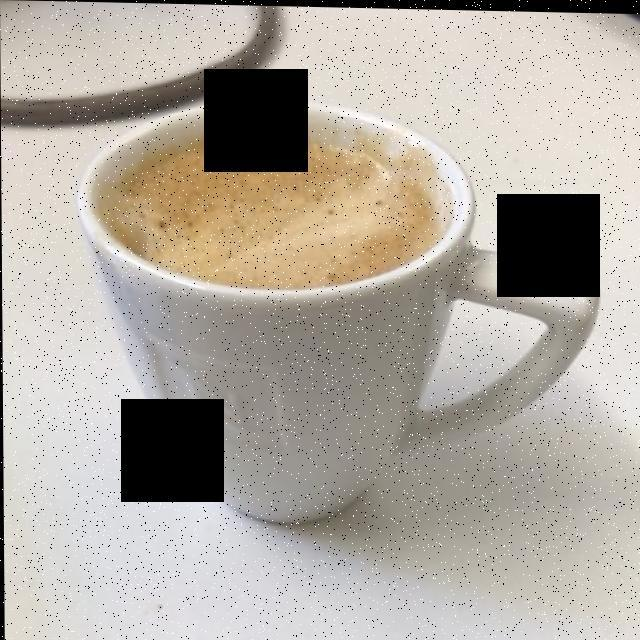coffee: (112, 137, 441, 283)
